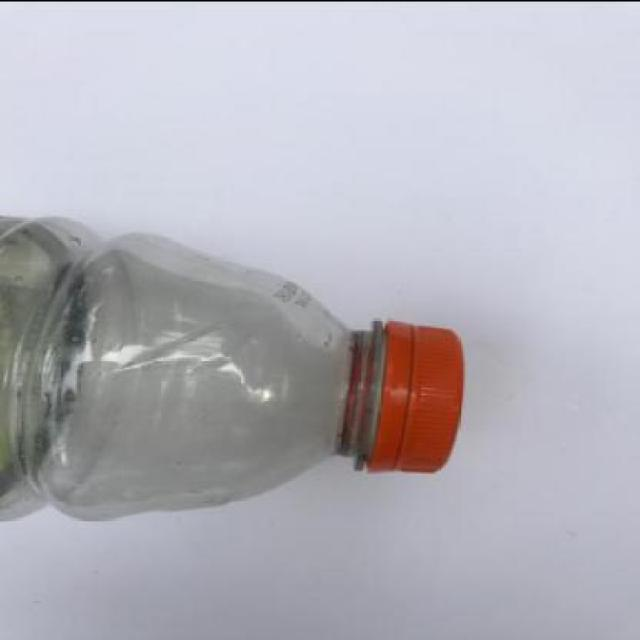PLASTIC: (0, 212, 463, 518), (338, 318, 462, 472)
